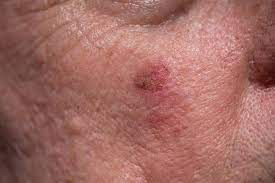Actinic Keratosis: (108, 37, 224, 154)
